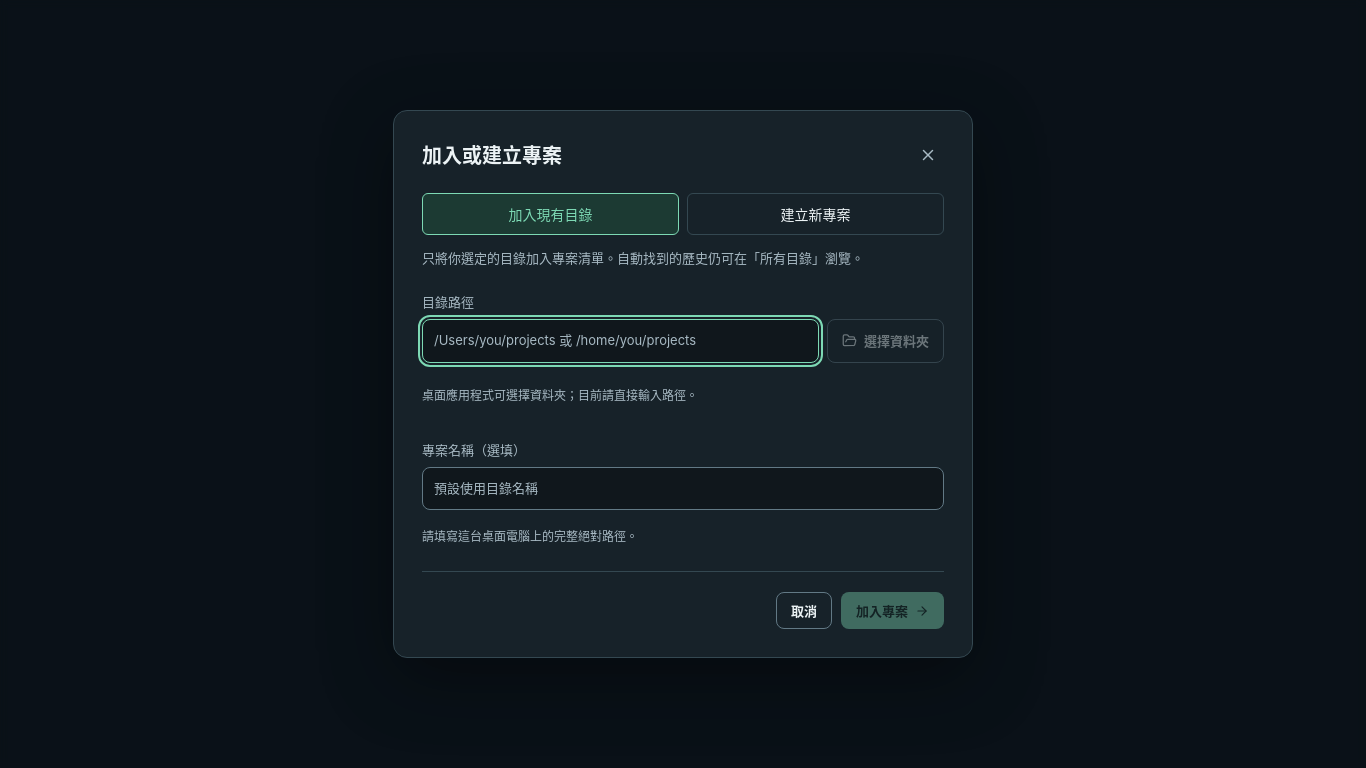
project dialog mutations › retries refresh without repeating a successful create mutation
Click the button "建立新專案" at (816, 214), box [687,193,944,235]
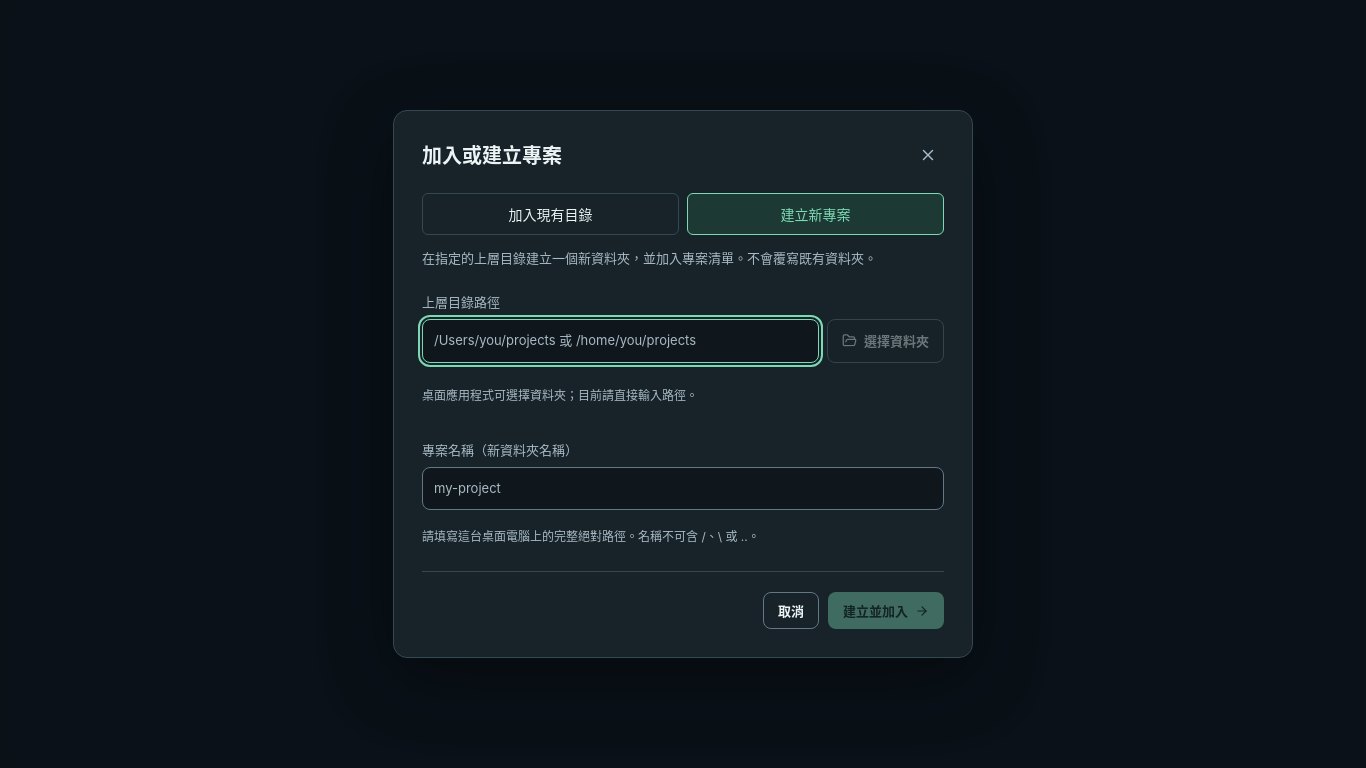
Type "/synthetic/chosen" into the field labelled "上層目錄路徑" at (620, 341), box [422,319,819,363]
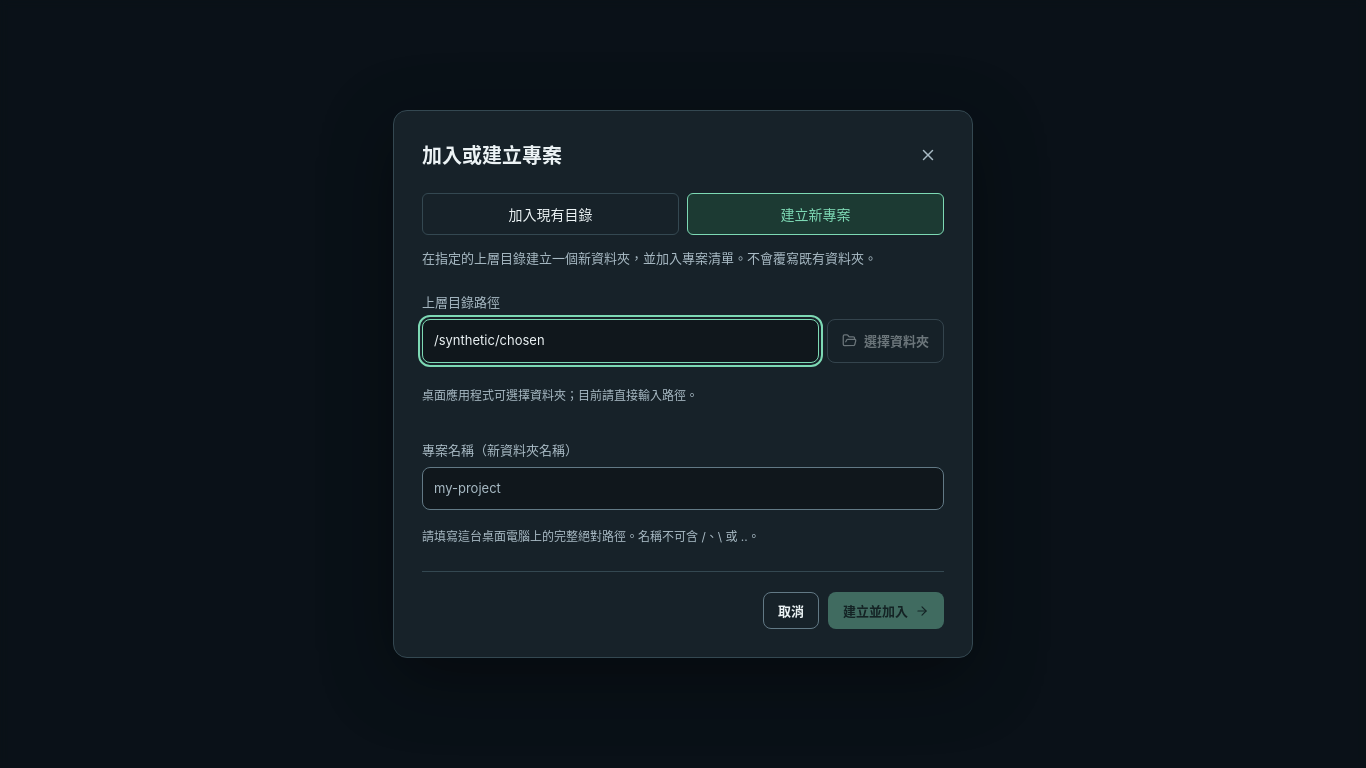
Type "chosen" into the field labelled "專案名稱（新資料夾名稱）" at (683, 488), box [422,467,944,510]
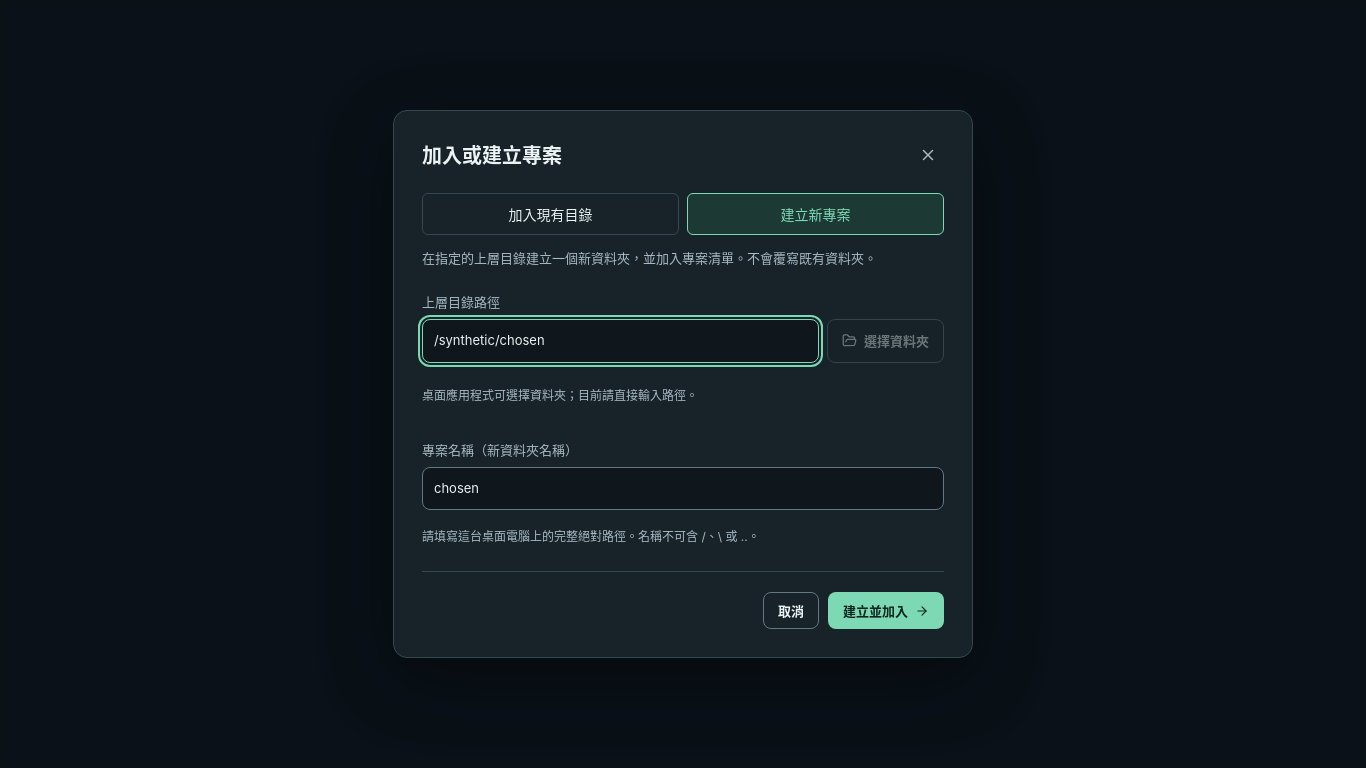
Click the button "建立並加入" at (886, 611), box [828,592,944,629]
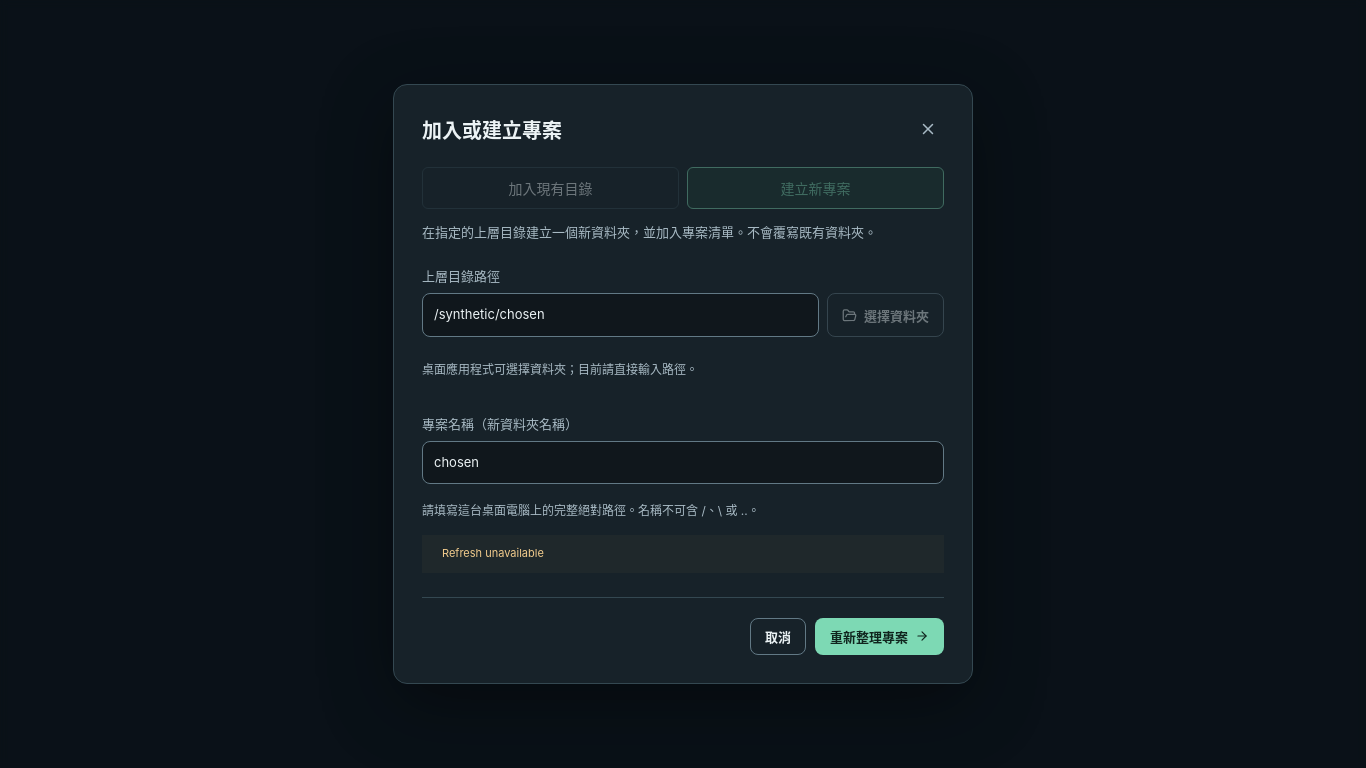
Now the message reads "Refresh unavailable", box [442,546,544,560]
Now the button "建立新專案" is disabled, box [687,167,944,209]
Now the field labelled "上層目錄路徑" is disabled, box [422,293,819,337]
Click the button "重新整理專案" at (880, 636), box [815,618,944,655]
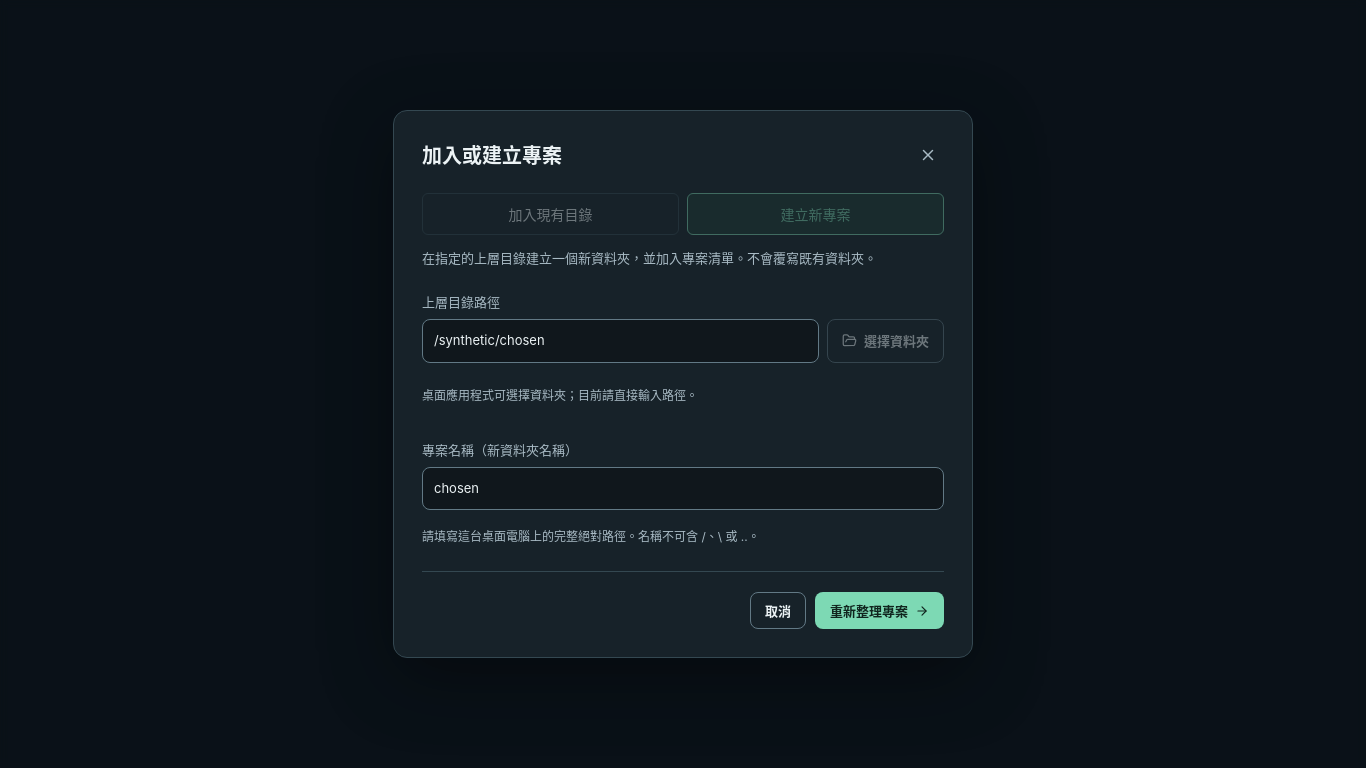
Now the message "Refresh unavailable" is gone
